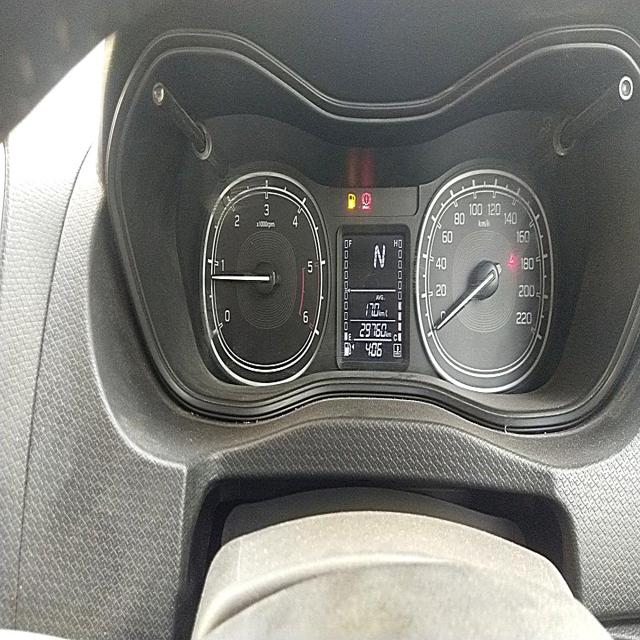odometer: (357, 321, 388, 340)
